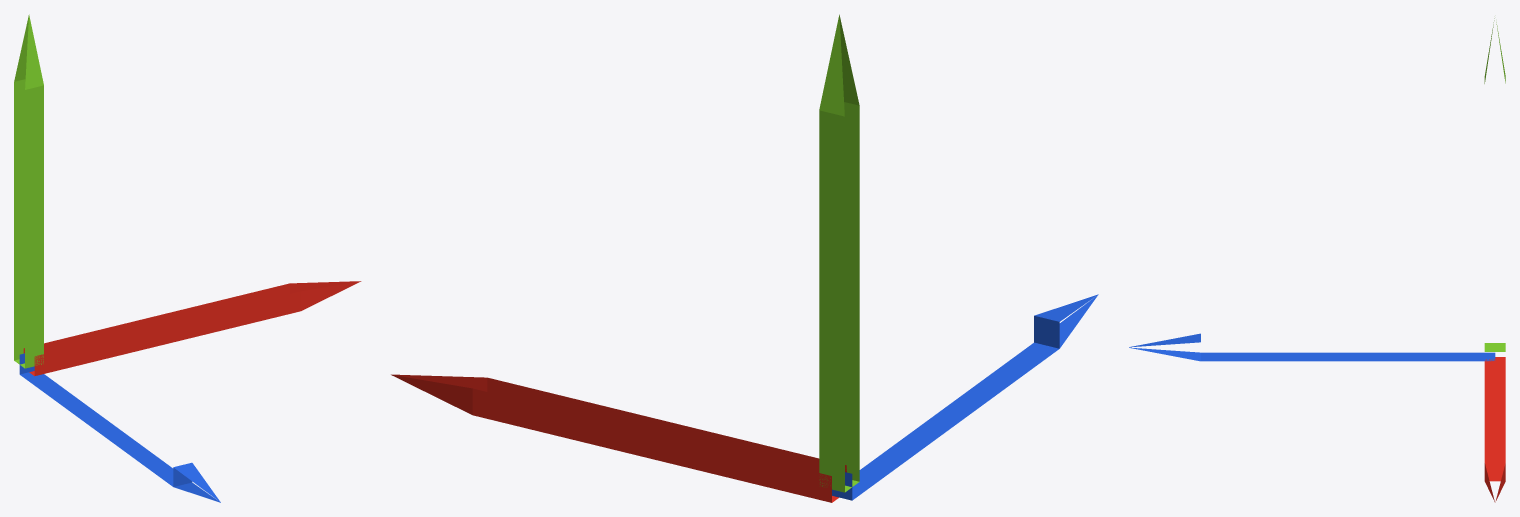
The model's file is axis_marker.obj.
3 views of the same model, side by side, from view 1: azimuth 30°, elevation 25°; view 2: azimuth 150°, elevation 25°; view 3: azimuth 270°, elevation 25° (orthographic). The views are drawn at different scales.
Visible parts, largest first — view 1: y_arrow, x_arrow, z_arrow; view 2: y_arrow, x_arrow, z_arrow; view 3: z_arrow, x_arrow.
Part boxes in pixels (x1,y1,x2,y2): y_arrow: (14,14,43,368); x_arrow: (23,281,361,376); z_arrow: (19,353,220,502); y_arrow: (819,14,859,492); x_arrow: (391,374,846,502); z_arrow: (832,294,1098,500); z_arrow: (1129,333,1495,361); x_arrow: (1484,357,1505,502).
Size of the model in its own units: 1.8 by 1.8 by 1.8.
